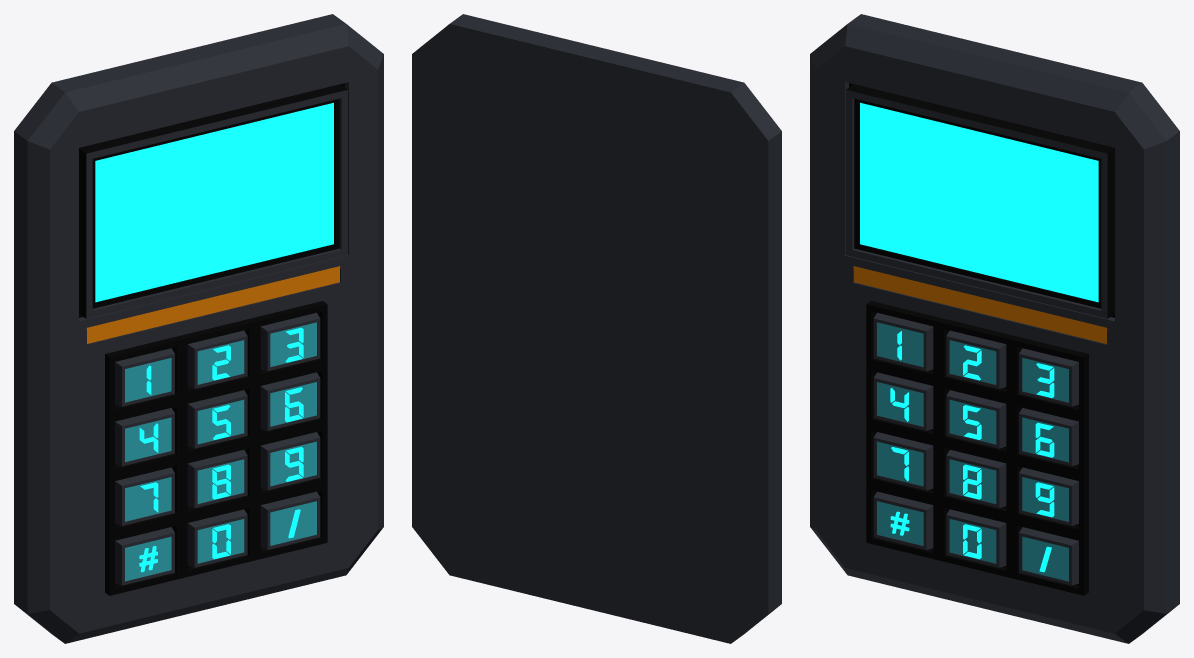
Rendered from SM_Access_Keypad.fbx.
The picture shows the model from 3 angles, left to right: view 1: azimuth 30°, elevation 25°; view 2: azimuth 150°, elevation 25°; view 3: azimuth 330°, elevation 25°; orthographic projection.
Visible parts, largest first — view 1: SM_Access_Keypad; view 2: SM_Access_Keypad; view 3: SM_Access_Keypad.
Part boxes in pixels (x1,y1,x2,y2): SM_Access_Keypad: (14, 14, 383, 643); SM_Access_Keypad: (412, 14, 781, 643); SM_Access_Keypad: (810, 14, 1179, 643).
Size of the model in its own units: 11.99 by 17.73 by 1.76.
